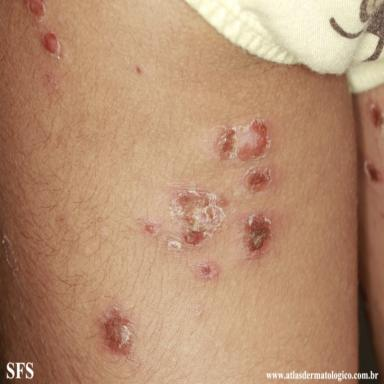Impetigo: (163, 181, 229, 251), (207, 119, 274, 162), (96, 302, 139, 360), (241, 210, 276, 262), (242, 163, 275, 198), (42, 30, 63, 62), (25, 0, 48, 23), (136, 217, 160, 237), (196, 260, 219, 280), (364, 160, 381, 182), (370, 103, 383, 127)
